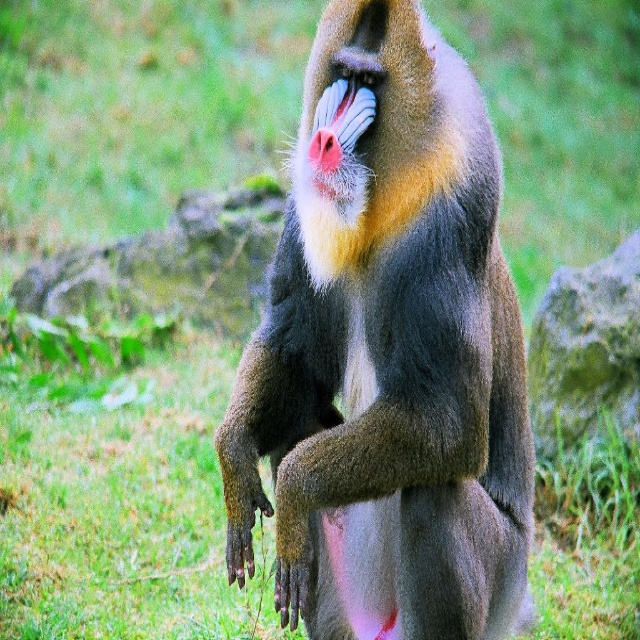Monkey: (213, 0, 535, 640)
